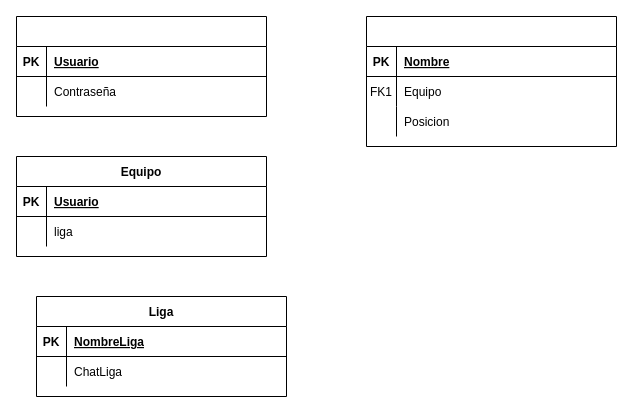
The diagram is 633 pixels wide and 413 high, and some of its shapes have lost their labels. Here are the shapes that lost their labels. From the top down, the box of each, then its label:
(16, 16, 266, 116): Login
(366, 16, 616, 146): Datos del jugadores
